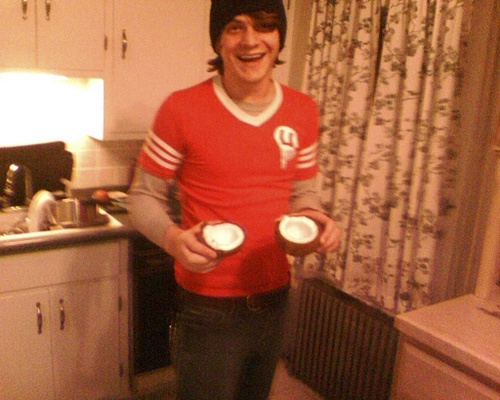head: (211, 1, 289, 83)
person: (127, 5, 335, 391)
